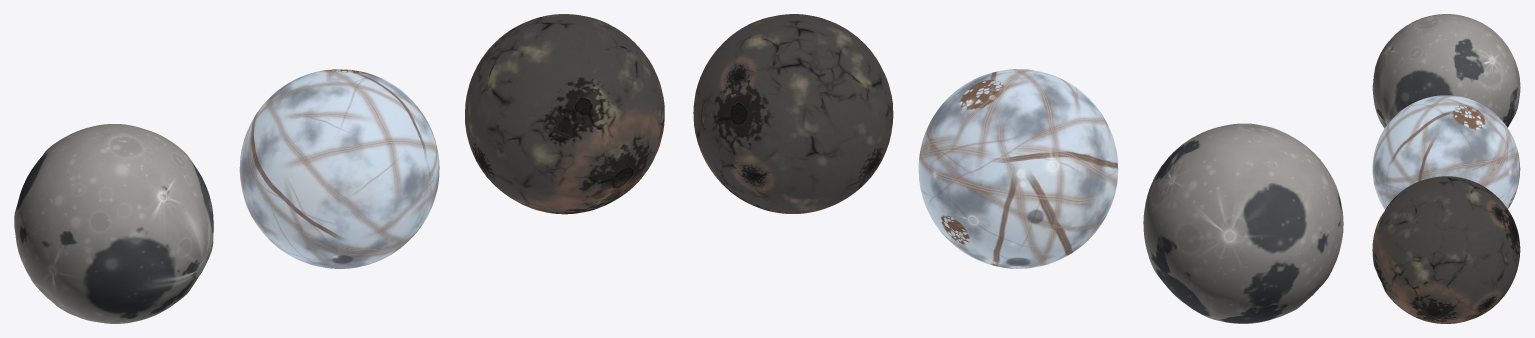
Rendered from moon.glb.
The picture shows the model from 3 angles, left to right: view 1: azimuth 30°, elevation 25°; view 2: azimuth 150°, elevation 25°; view 3: azimuth 270°, elevation 25°; orthographic projection. The views are drawn at different scales.
Parts seen in each view (by area): view 1: Moon_Volcanic, Moon_Ice, Moon_Rock; view 2: Moon_Rock, Moon_Volcanic, Moon_Ice; view 3: Moon_Volcanic, Moon_Rock, Moon_Ice.
Part boxes in pixels (x1,y1,x2,y2): Moon_Volcanic: (465, 14, 664, 214); Moon_Ice: (239, 69, 439, 268); Moon_Rock: (14, 124, 213, 323); Moon_Rock: (1143, 123, 1343, 323); Moon_Volcanic: (693, 14, 893, 213); Moon_Ice: (918, 69, 1118, 268); Moon_Volcanic: (1372, 176, 1520, 323); Moon_Rock: (1372, 14, 1520, 128); Moon_Ice: (1372, 95, 1520, 209).
Size of the model in its own units: 7.2 by 2.01 by 2.01.
3 materials, 3 textured.
